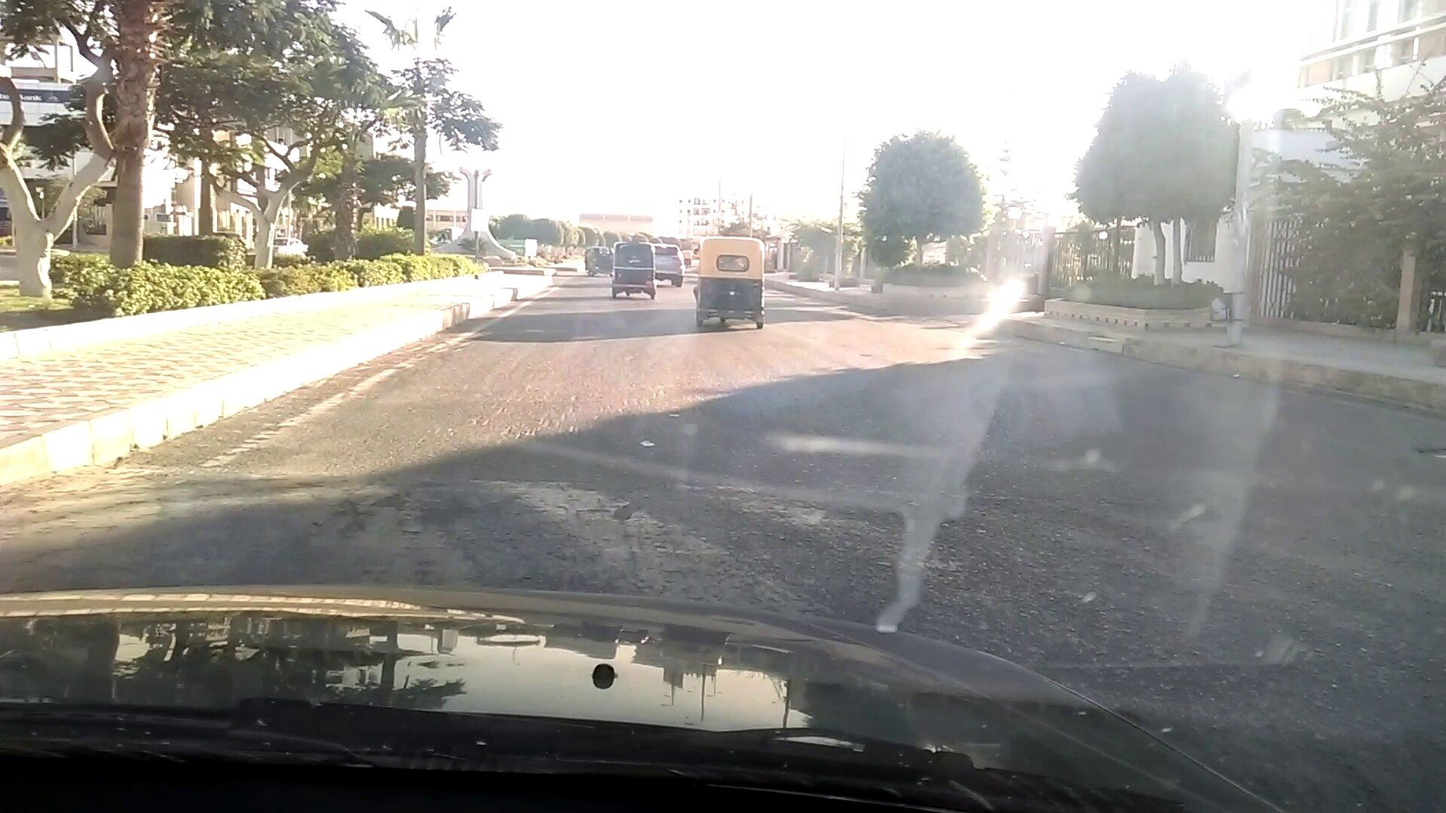Bump: (79, 469, 1446, 655)
